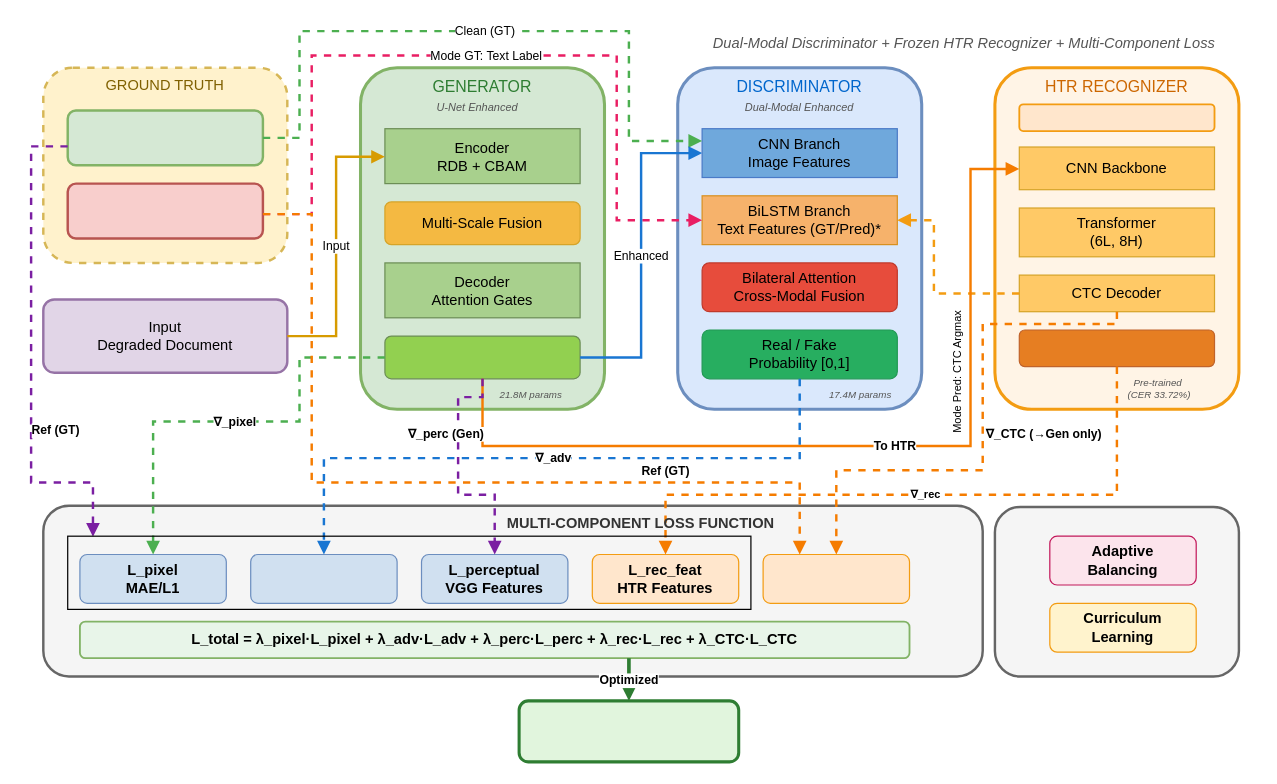
The diagram is 1277 pixels wide and 784 high, and some of its shapes have lost their labels. Each missing label, with the centre of its shape:
"Clean Image (Target)" belongs at point 165,137.
"ENHANCED DOCUMENT (Restored)" belongs at point 628,731.
"Enhanced Image" belongs at point 482,357.
"Feature Extraction" belongs at point 1116,348.
"Ground Truth Text (Transcription)" belongs at point 165,210.
"L_adversarial GAN Loss" belongs at point 323,578.
"L_CTC HTR Gradient" belongs at point 836,578.
"🔒 FROZEN (trainable=False)" belongs at point 1116,117.
